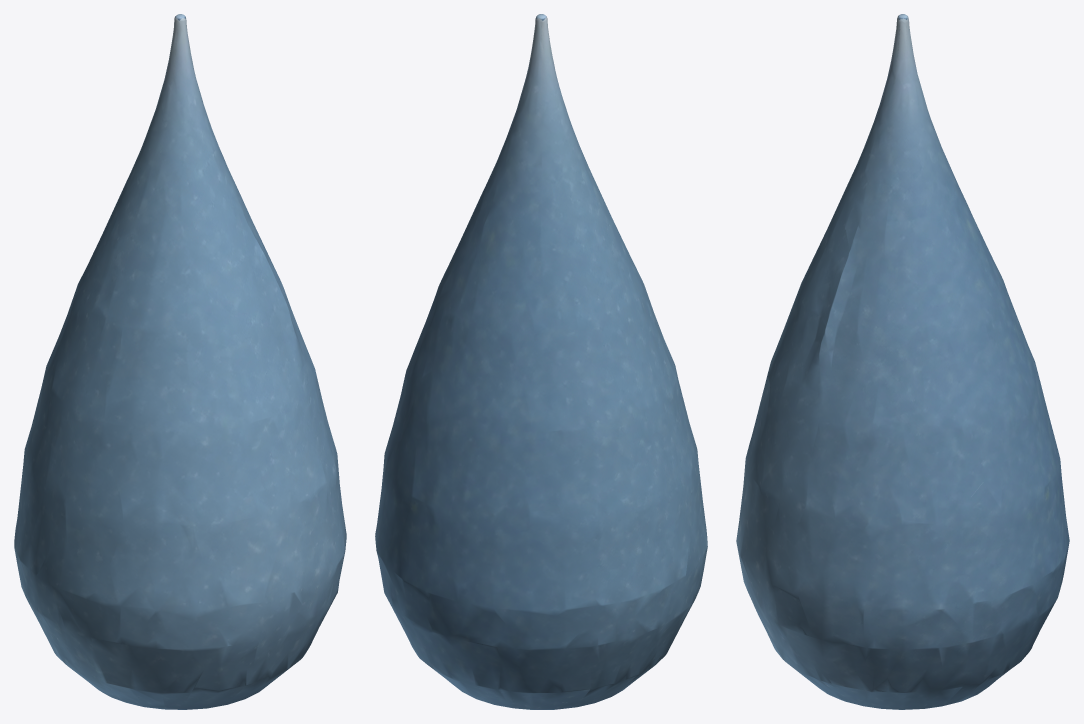
Rendered from Prop_WaterDroplet.glb.
3 views of the same model, side by side, from view 1: azimuth 30°, elevation 25°; view 2: azimuth 150°, elevation 25°; view 3: azimuth 270°, elevation 25° (orthographic).
Size of the model in its own units: 0.8486 by 1.9 by 0.8491.
Materials: 1 (1 with a texture image).
